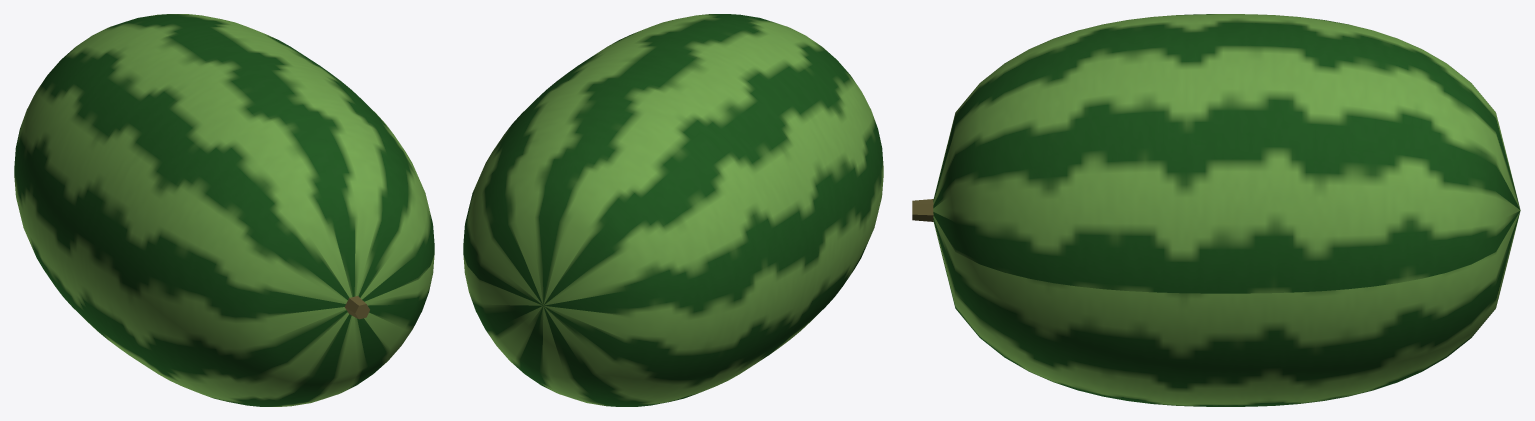
Rendered from watermelon.glb.
The picture shows the model from 3 angles, left to right: view 1: azimuth 30°, elevation 25°; view 2: azimuth 150°, elevation 25°; view 3: azimuth 270°, elevation 25°; orthographic projection. The views are drawn at different scales.
Parts seen in each view (by area): view 1: watermelon; view 2: watermelon; view 3: watermelon.
Part boxes in pixels (x1,y1,x2,y2): watermelon: [14, 14, 434, 406]; watermelon: [463, 14, 883, 406]; watermelon: [912, 14, 1520, 406].
Size of the model in its own units: 0.32 by 0.32 by 0.495.
Materials: 1 (1 with a texture image).
